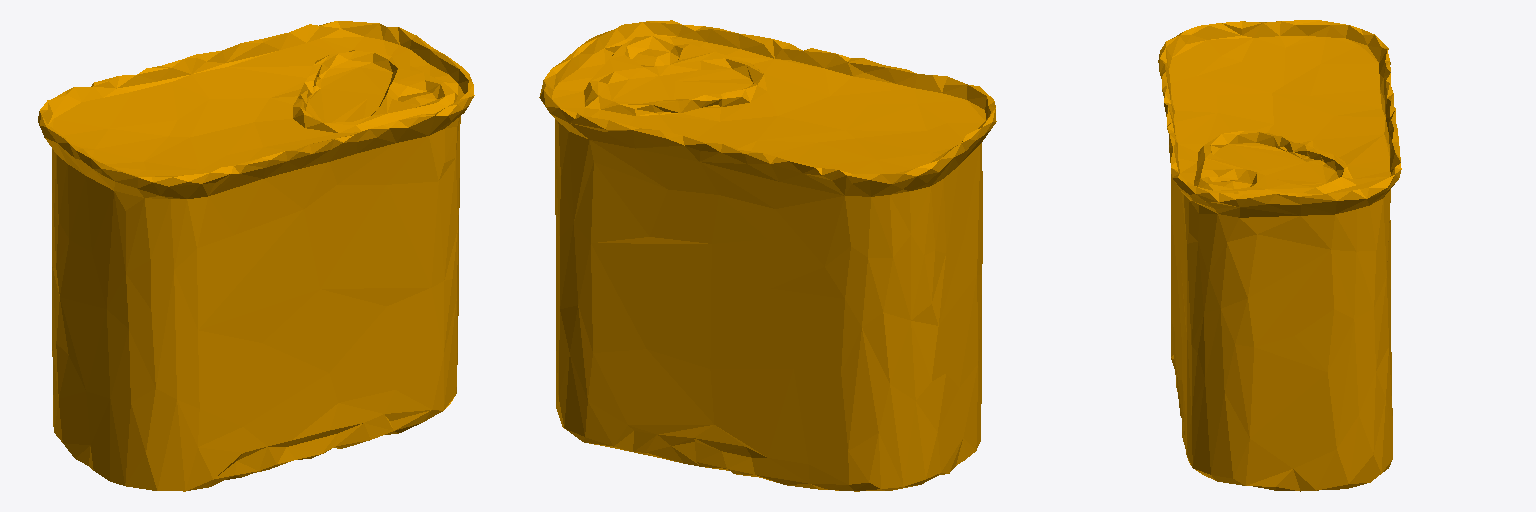
robot.urdf — 010_potted_meat_can:
<?xml version="1.0" ?>
<robot name="010_potted_meat_can">
  <link name="base_link">
    <inertial>
      <origin xyz="0. 0. 0." />
      <mass value="55.0" />
      <inertia ixx="0.001" ixy="0.0" ixz="0.0" iyy="0.001" iyz="0.0" izz="0.001" />
    </inertial>
    <visual name="010_potted_meat_can">
      <origin xyz="0. 0. 0."/>
      <geometry>
        <mesh filename="shape/visual/010_potted_meat_can.obj"/>
      </geometry>
    </visual>
<collision>
      <origin xyz="0. 0. 0."/>
      <geometry>
        <mesh filename="shape/collision/010_potted_meat_can_cm.obj"/>
      </geometry>
    </collision>

  </link>
</robot>

--- Facts derived from the render (not from the file) ---
Views: 3 orthographic renders of the robot side by side, from view 1: azimuth 30°, elevation 25°; view 2: azimuth 150°, elevation 25°; view 3: azimuth 270°, elevation 25°.
Model 010_potted_meat_can with 1 links and 0 joints (none), rooted at base_link, posed all joints at 0.
Visible links, largest first — view 1: base_link; view 2: base_link; view 3: base_link.
Boxes of the visible links, x1,y1,x2,y2 form: base_link: (38,21,474,491); base_link: (539,20,996,491); base_link: (1158,20,1401,491).
Bounding box of the posed robot: 0.1021 × 0.06 × 0.0837 m (x, y, z).
Meshes: 1 distinct files referenced, 1 mesh visuals loaded (1 OBJ).